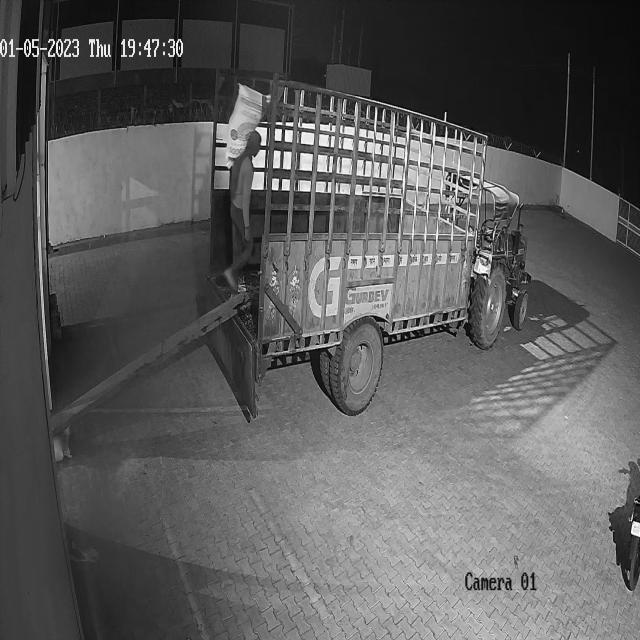sack: (225, 80, 272, 162)
